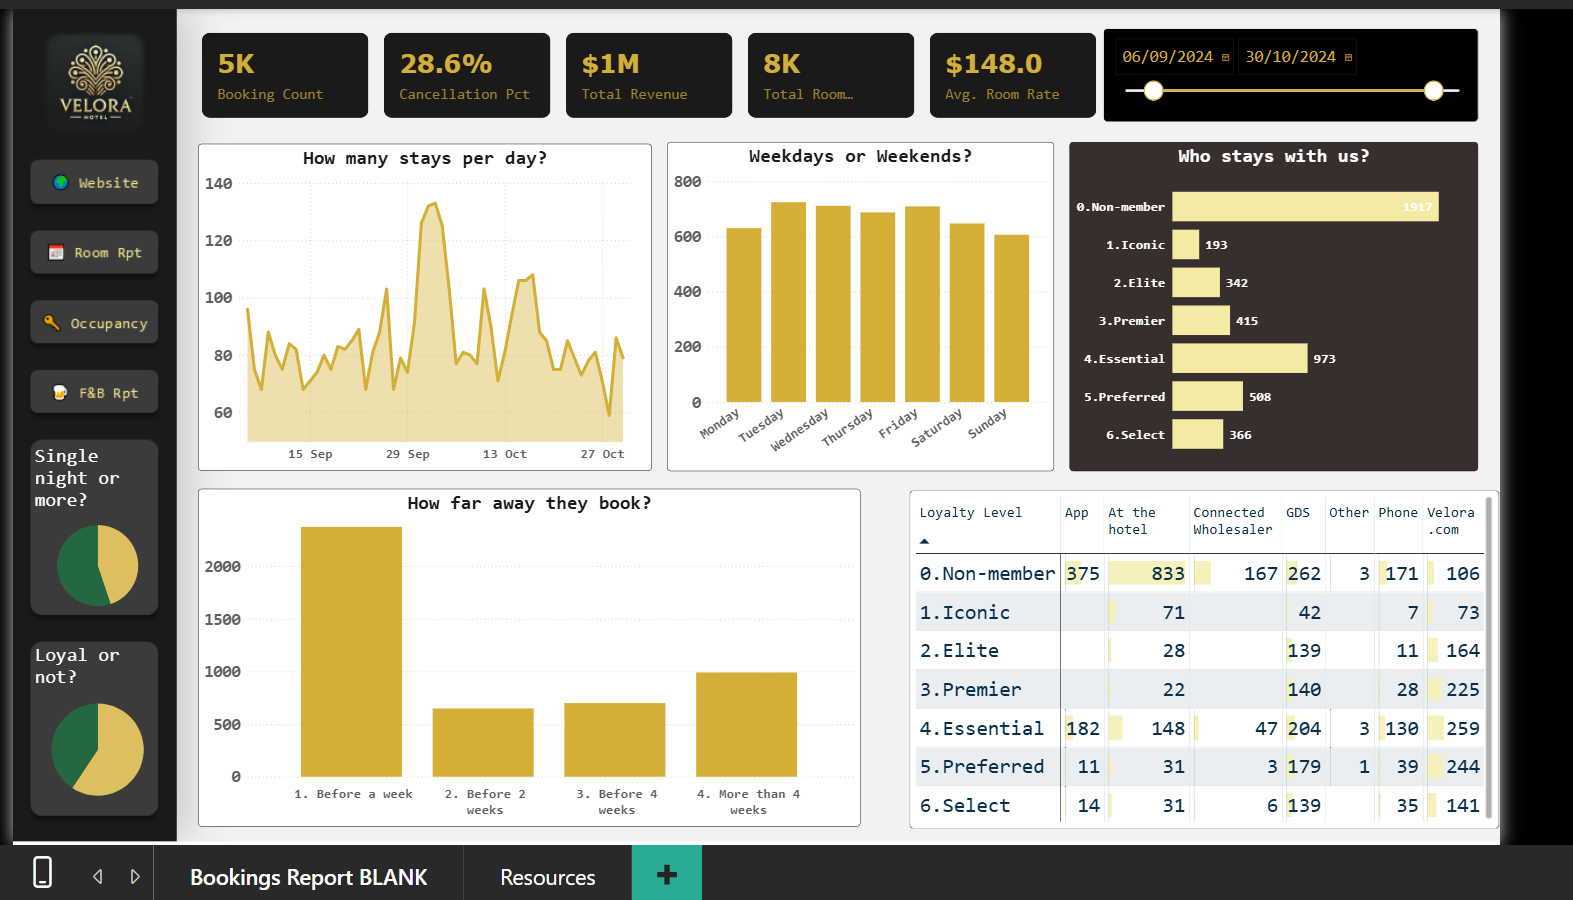

What the dashboard file says about the page in this screenshot:
{"tool":"powerbi","page":{"name":"Bookings Report BLANK","canvas":[1920,1080],"ordinal":0},"visuals":[{"type":"cardVisual","fields":{"Data":["bookings.Booking Count","bookings.Cancellation Pct","bookings.Total Revenue","bookings.Total Room Nights","bookings.Avg. Room Rate"]},"box":[240,25.7,1168.6,120],"z":0},{"type":"lineChart","title":"How many stays per day?","fields":{"Category":["bookings.Stay Date"],"Y":["bookings.Booking Count"]},"box":[238.9,175,586.1,422.2],"z":1000},{"type":"slicer","fields":{"Values":["bookings.Stay Date"]},"box":[1408.3,25,483.3,119.4],"z":2000},{"type":"clusteredColumnChart","title":"Weekdays or Weekends?","fields":{"Category":["bookings.Day Name"],"Y":["bookings.Booking Count"]},"box":[844.4,172.2,500,425],"z":3000},{"type":"clusteredBarChart","title":"Who stays with us?","fields":{"Category":["bookings.Loyalty Level"],"Y":["bookings.Booking Count"]},"box":[1363.9,172.2,527.8,425],"z":4000},{"type":"clusteredColumnChart","title":"How far away they book?","fields":{"Y":["bookings.Booking Count"],"Category":["bookings.How far away bucket"]},"box":[238.9,619.4,855.6,436.1],"z":5000},{"type":"pivotTable","fields":{"Rows":["bookings.Loyalty Level"],"Columns":["bookings.Booking Channel"],"Values":["bookings.Booking Count"]},"box":[1158.3,622.2,761.1,436.1],"z":6000},{"type":"pieChart","title":"Single night or more?","fields":{"Y":["bookings.Single night booking count","bookings.Multi-night booking count"]},"box":[22.2,561.1,172.2,227.8],"z":7000},{"type":"pieChart","title":"Loyal or not?","fields":{"Y":["bookings.Loyal Customer Booking Count","bookings.Not Loyal Customer Booking Count"]},"box":[22.2,819.4,172.2,216.7],"z":8000}]}

Visuals, with their boxes on the page's 1920x1080 design canvas (x1, y1, x2, y2). These are canvas units, not pixel positions in the 1573x900 screenshot, which may show the page scaled, cropped or inside an application window:
cardVisual - bookings.Booking Count x bookings.Cancellation Pct: bbox=(240, 26, 1409, 146)
"How many stays per day?" lineChart: bbox=(239, 175, 825, 597)
slicer - bookings.Stay Date: bbox=(1408, 25, 1892, 144)
"Weekdays or Weekends?" clusteredColumnChart: bbox=(844, 172, 1344, 597)
"Who stays with us?" clusteredBarChart: bbox=(1364, 172, 1892, 597)
"How far away they book?" clusteredColumnChart: bbox=(239, 619, 1094, 1056)
pivotTable - bookings.Loyalty Level x bookings.Booking Channel: bbox=(1158, 622, 1919, 1058)
"Single night or more?" pieChart: bbox=(22, 561, 194, 789)
"Loyal or not?" pieChart: bbox=(22, 819, 194, 1036)
